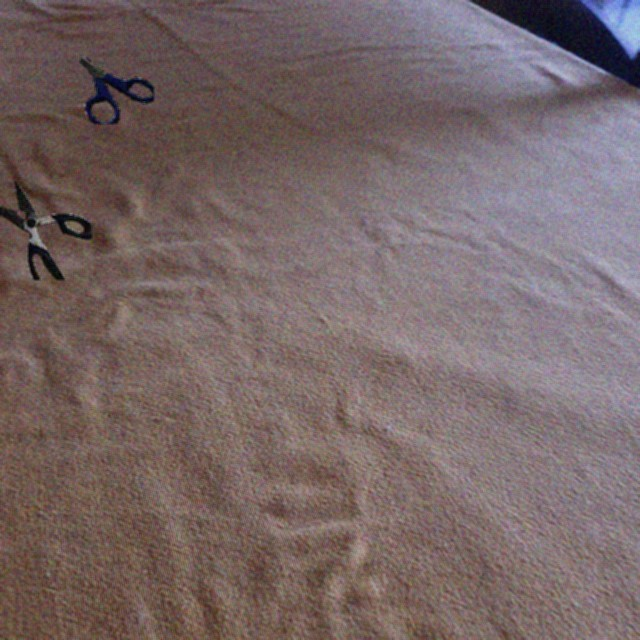scissors: (0, 181, 92, 280), (79, 57, 154, 124)
